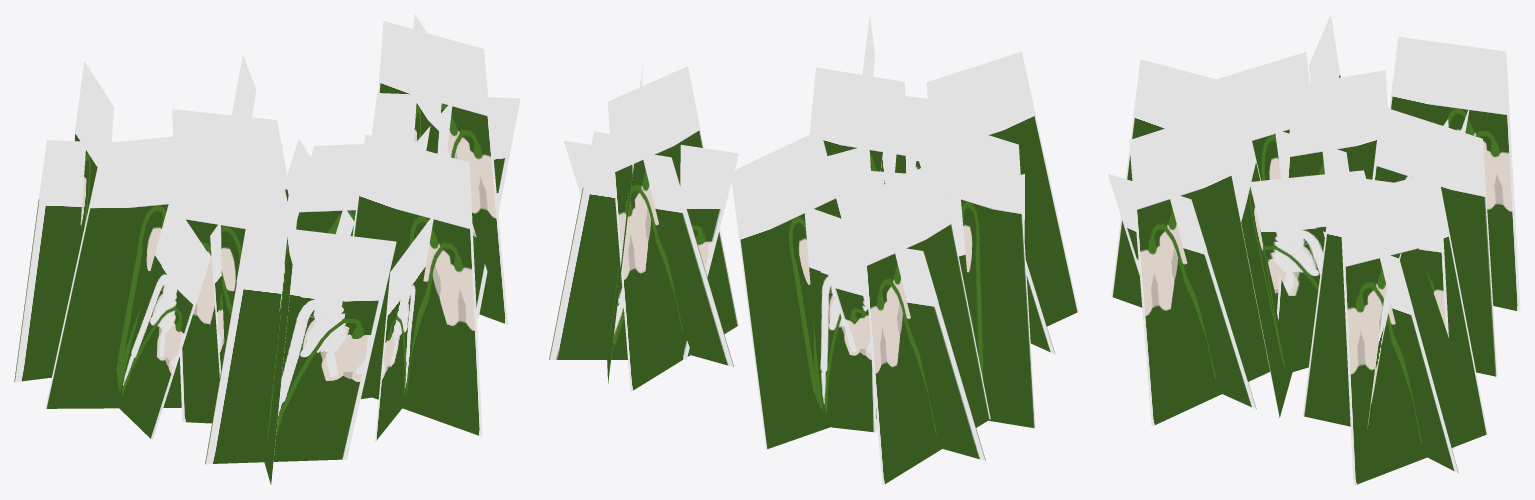
Rendered from PT_Snowdrops_01.fbx.
The picture shows the model from 3 angles, left to right: view 1: azimuth 30°, elevation 25°; view 2: azimuth 150°, elevation 25°; view 3: azimuth 270°, elevation 25°; orthographic projection. The views are drawn at different scales.
Parts seen in each view (by area): view 1: PT_Snowdrops_01_LOD0; view 2: PT_Snowdrops_01_LOD0; view 3: PT_Snowdrops_01_LOD0.
Part boxes in pixels (x1,y1,x2,y2): PT_Snowdrops_01_LOD0: [14, 14, 520, 485]; PT_Snowdrops_01_LOD0: [549, 15, 1078, 485]; PT_Snowdrops_01_LOD0: [1107, 14, 1520, 485].
Size of what is drawn, in the model's own units: 67.69 by 40.94 by 52.64.
